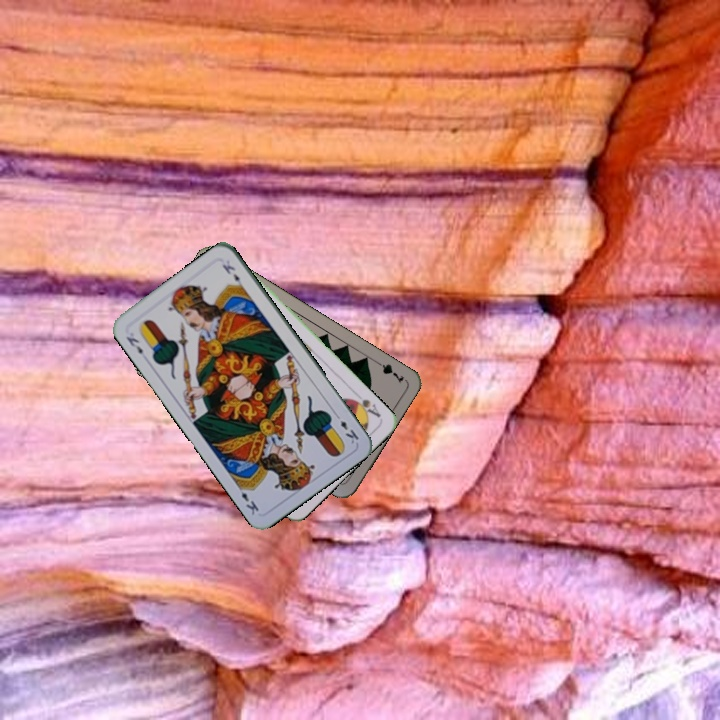EK: (331, 409, 361, 446), (122, 332, 149, 363)
G7: (370, 356, 407, 386)
SA: (347, 389, 384, 420)
